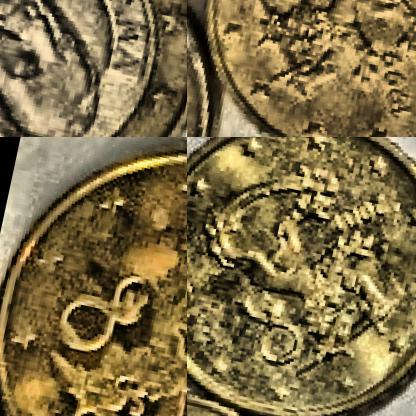coin: (187, 137, 415, 415), (0, 137, 186, 415), (187, 0, 415, 136), (0, 0, 186, 136)
